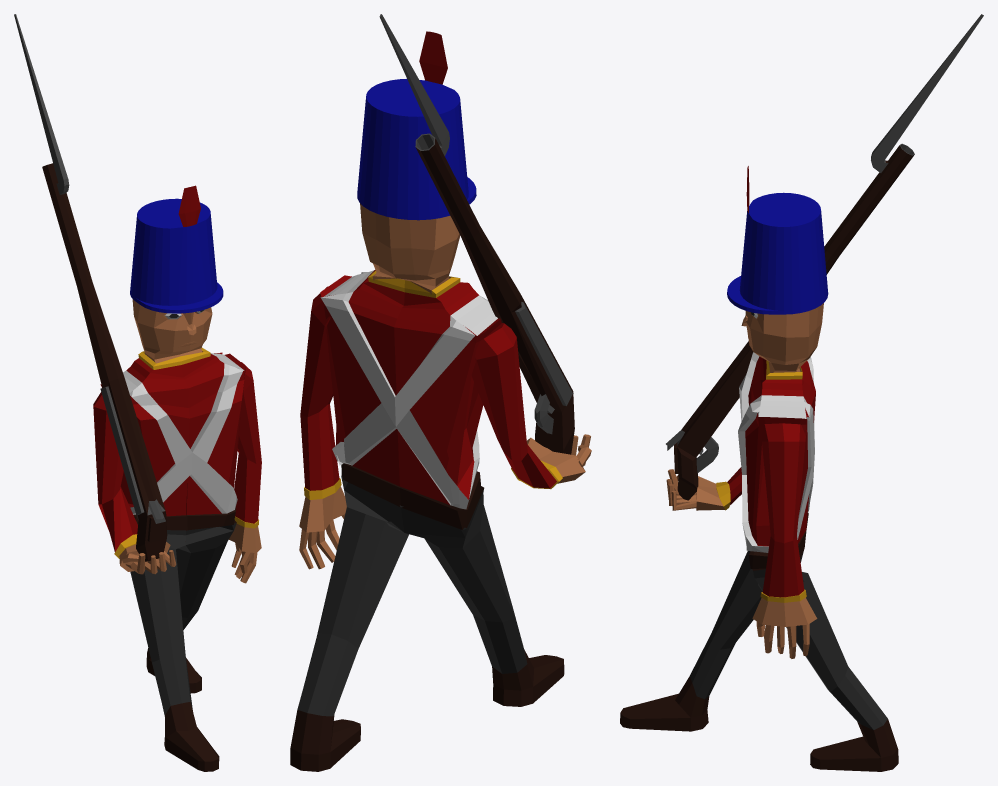
File: frame2.obj
3 views of the same model, side by side, from view 1: azimuth 30°, elevation 25°; view 2: azimuth 150°, elevation 25°; view 3: azimuth 270°, elevation 25° (orthographic). The views are drawn at different scales.
Parts seen in each view (by area): view 1: {Man}_Circle, {Mesket}_Cube.001; view 2: {Man}_Circle, {Mesket}_Cube.001; view 3: {Man}_Circle, {Mesket}_Cube.001.
Part boxes in pixels (bbox=[...]): {Man}_Circle: bbox=[93, 185, 261, 771]; {Mesket}_Cube.001: bbox=[14, 14, 167, 561]; {Man}_Circle: bbox=[290, 31, 591, 771]; {Mesket}_Cube.001: bbox=[379, 14, 574, 454]; {Man}_Circle: bbox=[620, 166, 898, 771]; {Mesket}_Cube.001: bbox=[666, 14, 983, 500].
Size of the model in its own units: 5.63 by 19.16 by 9.06.
